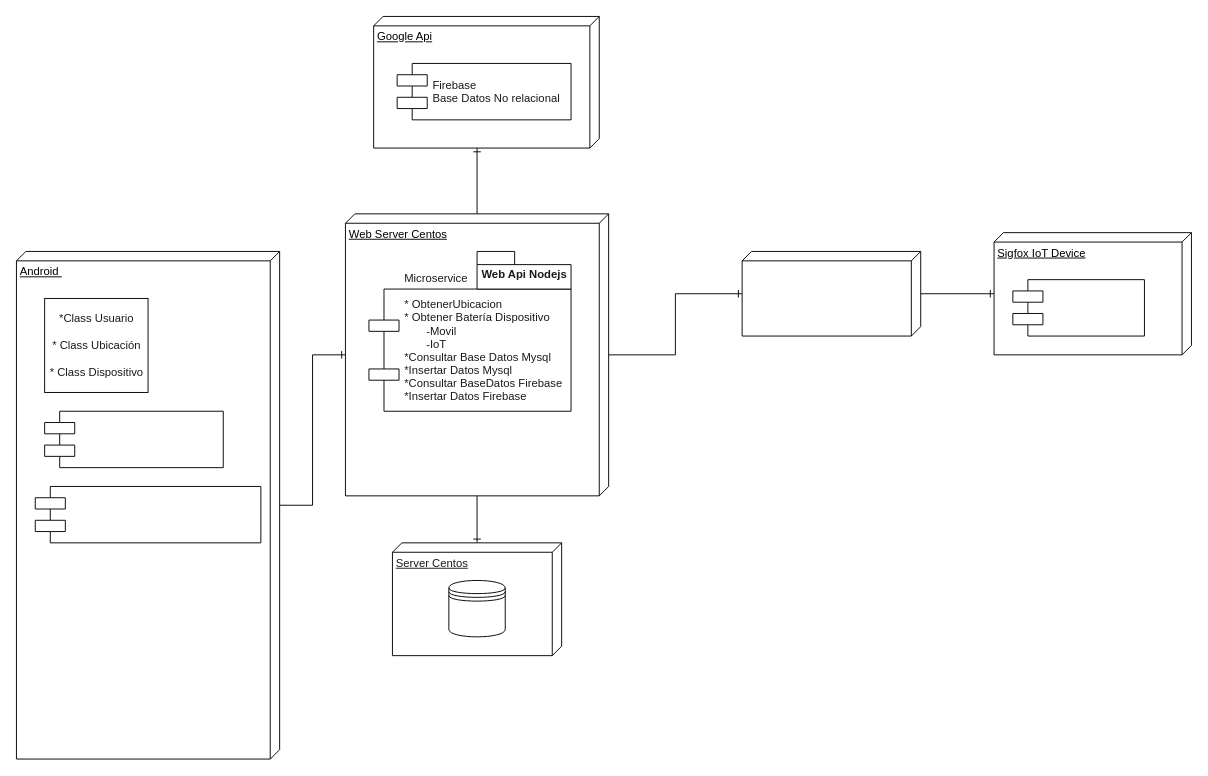
This 1208x776 diagram has some shape labels left out. Here are the shapes that lost their labels. From the top down, the centre of each, then its label:
[831,293]: Sigfox Backend
[1078,307]: sendUbicIbutton
[133,439]: Modulo Consulta Web Api
[147,514]: Método Consulta Hardware Teléfono Thread Oncreate Onstop
[476,608]: Mysql
